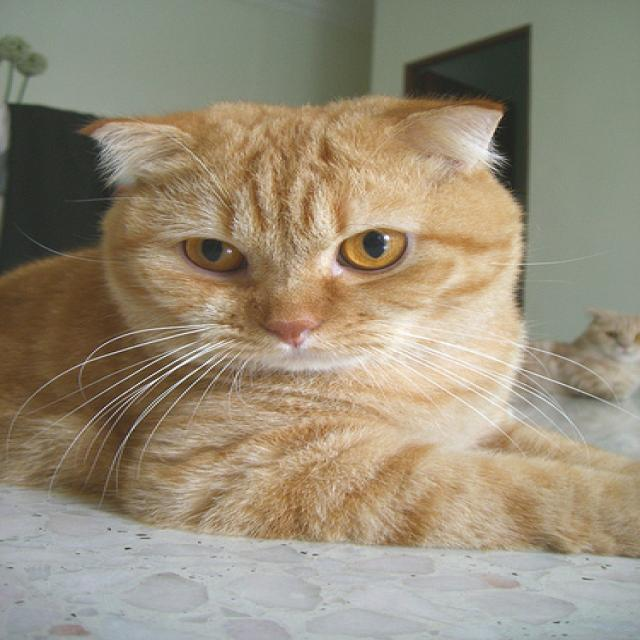cat: (1, 93, 639, 559)
